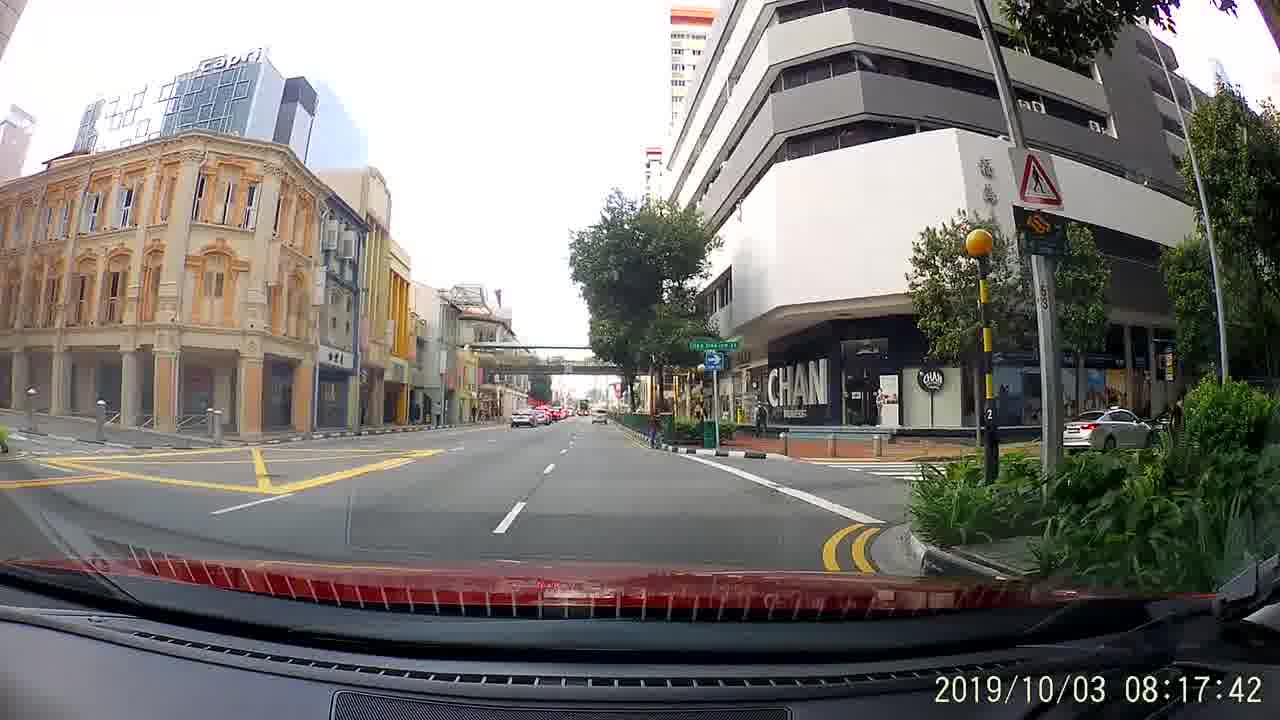car: (1057, 407, 1167, 460), (510, 401, 543, 431), (589, 408, 608, 423)
